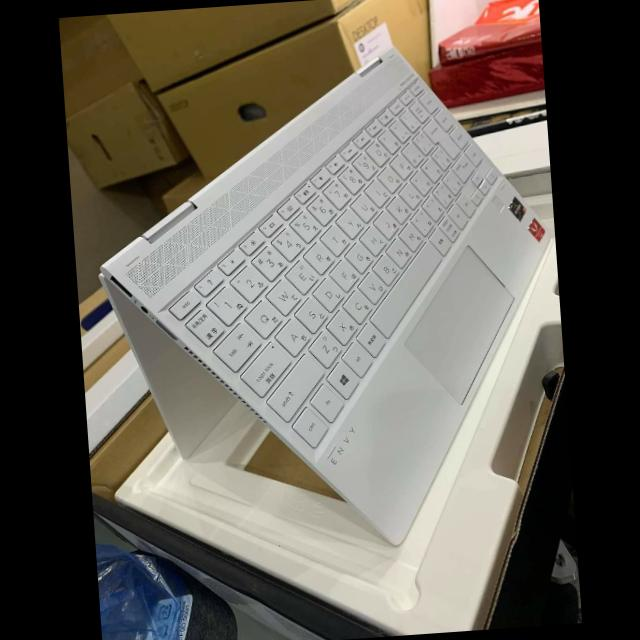laptop: (64, 38, 576, 576)
